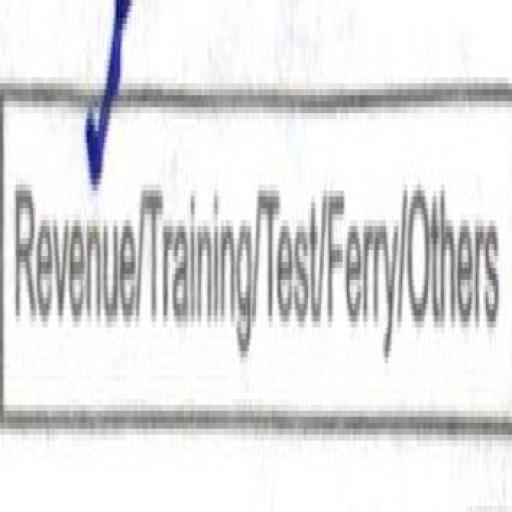check: (0, 6, 143, 446)
